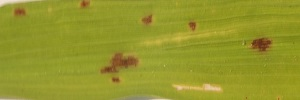RiceBrownSpot: (97, 46, 142, 89), (138, 11, 204, 36), (241, 33, 274, 62)
